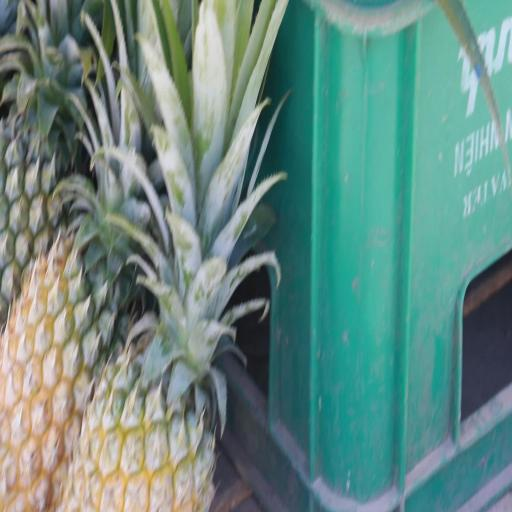Pineapple - v8 v1: (0, 67, 146, 512), (56, 153, 219, 512)
